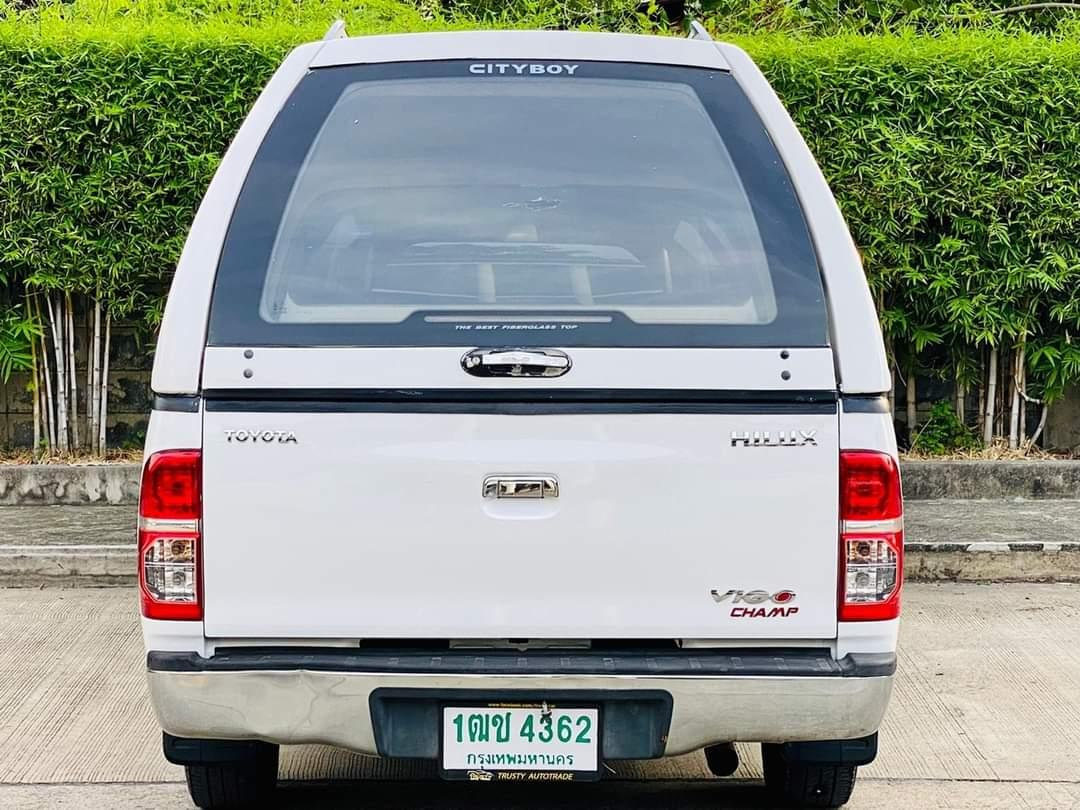license-plate: (437, 700, 606, 783)
